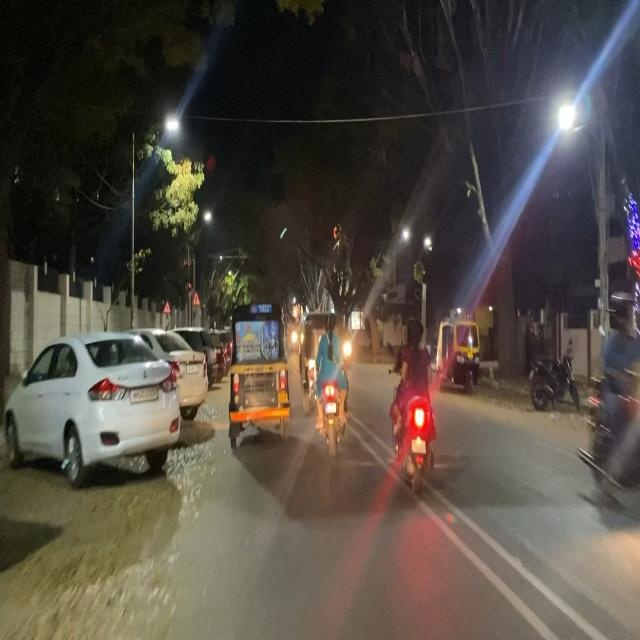bien_nguy_hiem: (162, 297, 172, 315), (192, 290, 200, 308)
